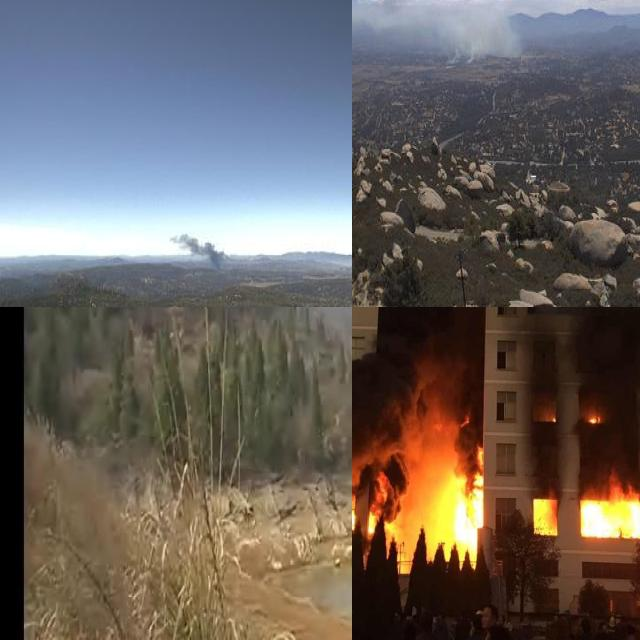fire: (429, 464, 487, 553), (352, 471, 401, 543), (578, 492, 640, 542), (534, 492, 558, 540), (583, 402, 606, 430)
smoke: (352, 307, 640, 456), (353, 0, 527, 65), (166, 228, 231, 274)
